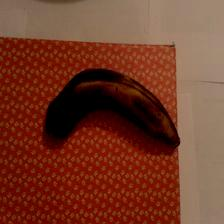Banana Rotten: (32, 60, 186, 156)
